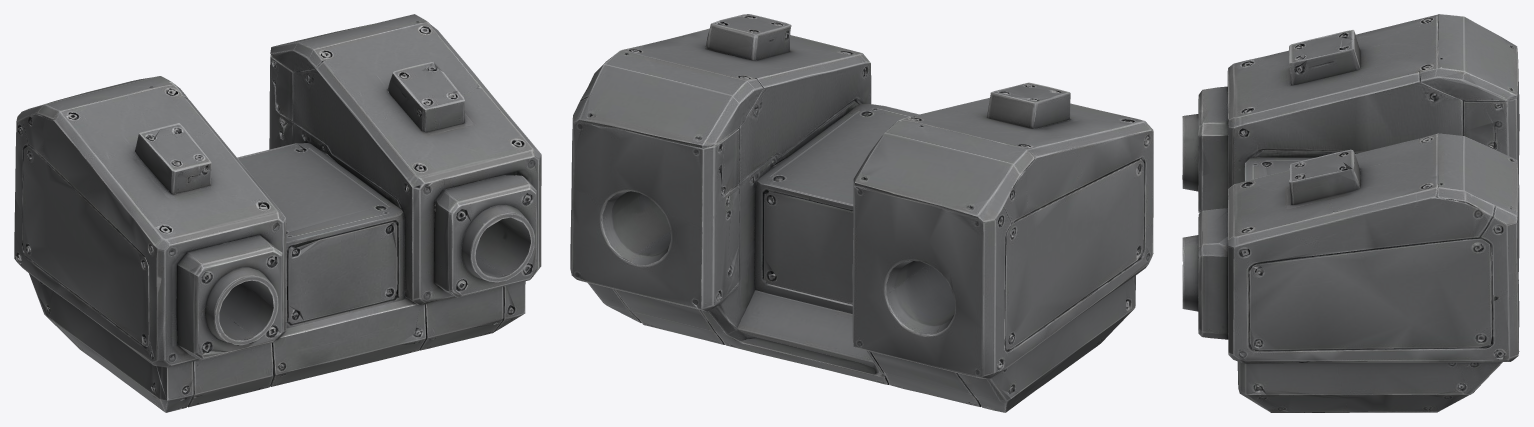
File: shared_flak_tower_large_option__elevation_cradle.glb
The picture shows the model from 3 angles, left to right: view 1: azimuth 30°, elevation 25°; view 2: azimuth 150°, elevation 25°; view 3: azimuth 270°, elevation 25°; orthographic projection. The views are drawn at different scales.
Visible parts, largest first — view 1: mesh_node; view 2: mesh_node; view 3: mesh_node.
Part boxes in pixels (x1=…): mesh_node: x1=14, y1=14, x2=541, y2=412; mesh_node: x1=570, y1=14, x2=1153, y2=412; mesh_node: x1=1182, y1=14, x2=1519, y2=412.
Bounding box in the file's own units: 3.41 × 2.08 × 2.68.
1 material, 1 textured.
